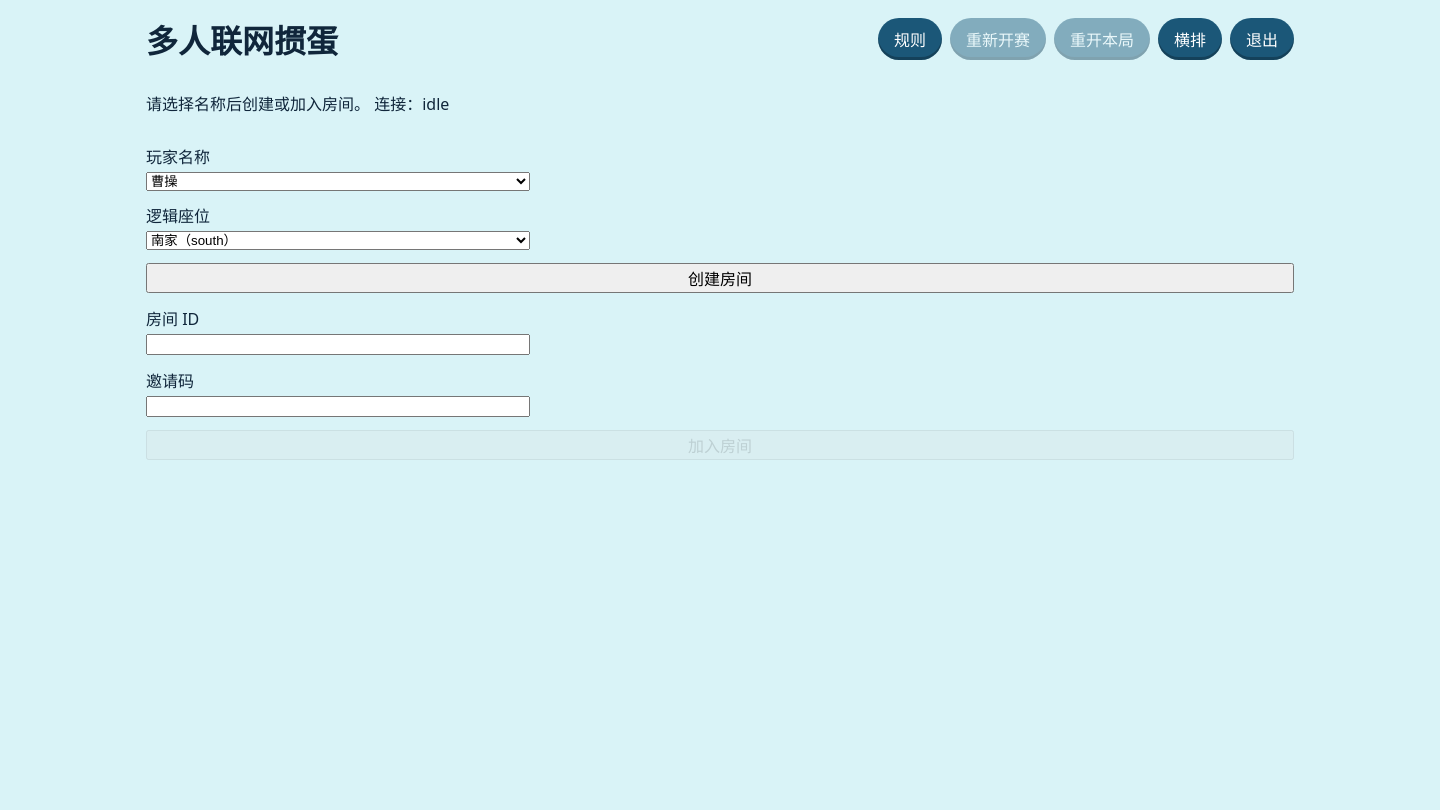
Test: 多人前端 › 跟牌的合法响应也会在权威确认后立即移除手牌并轮转
Click the button "创建房间" at point(720, 278), box [146,263,1294,293]
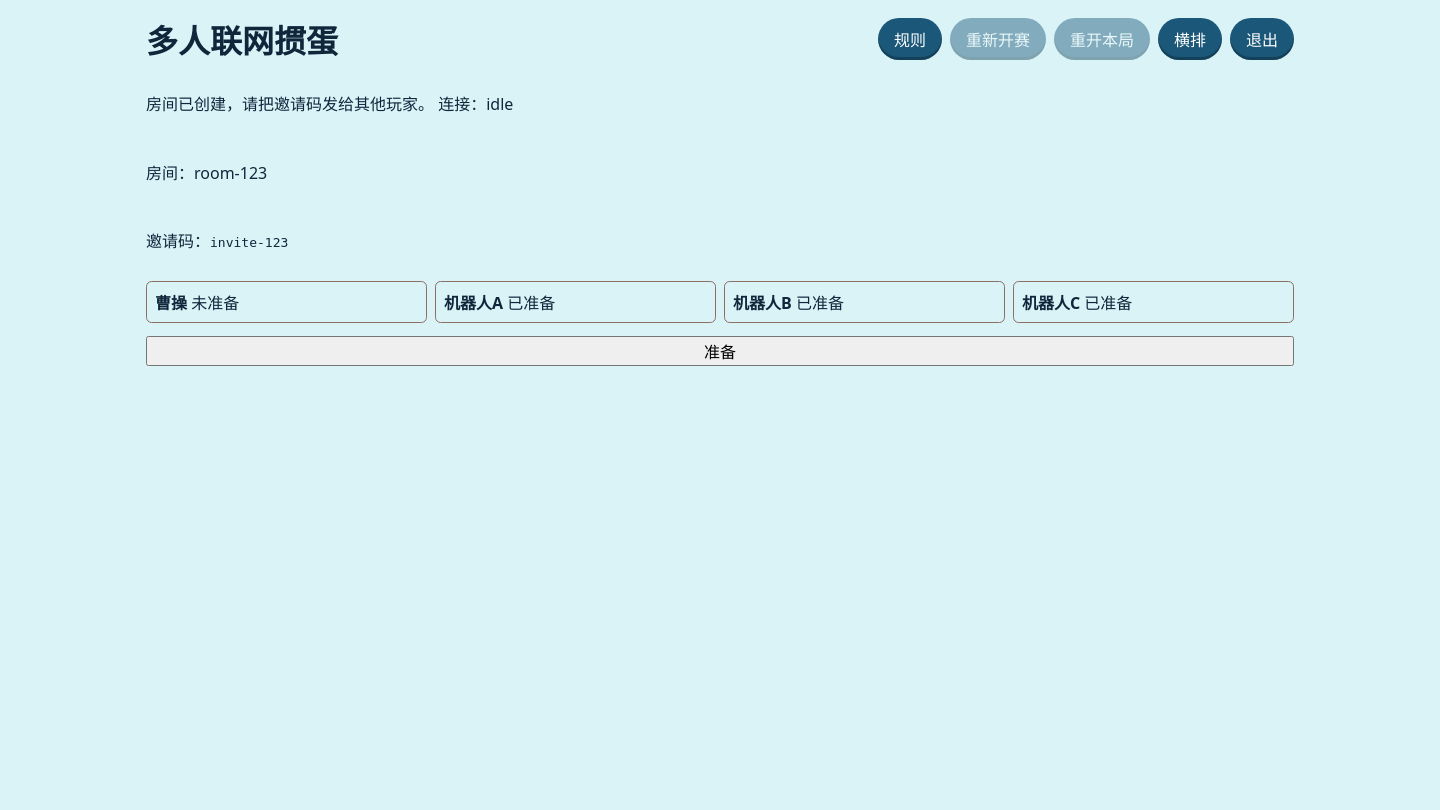
Check: the element named "多人房间" is shown, box [146,144,1294,366]
Click the button "准备" at point(720, 351), box [146,336,1294,366]
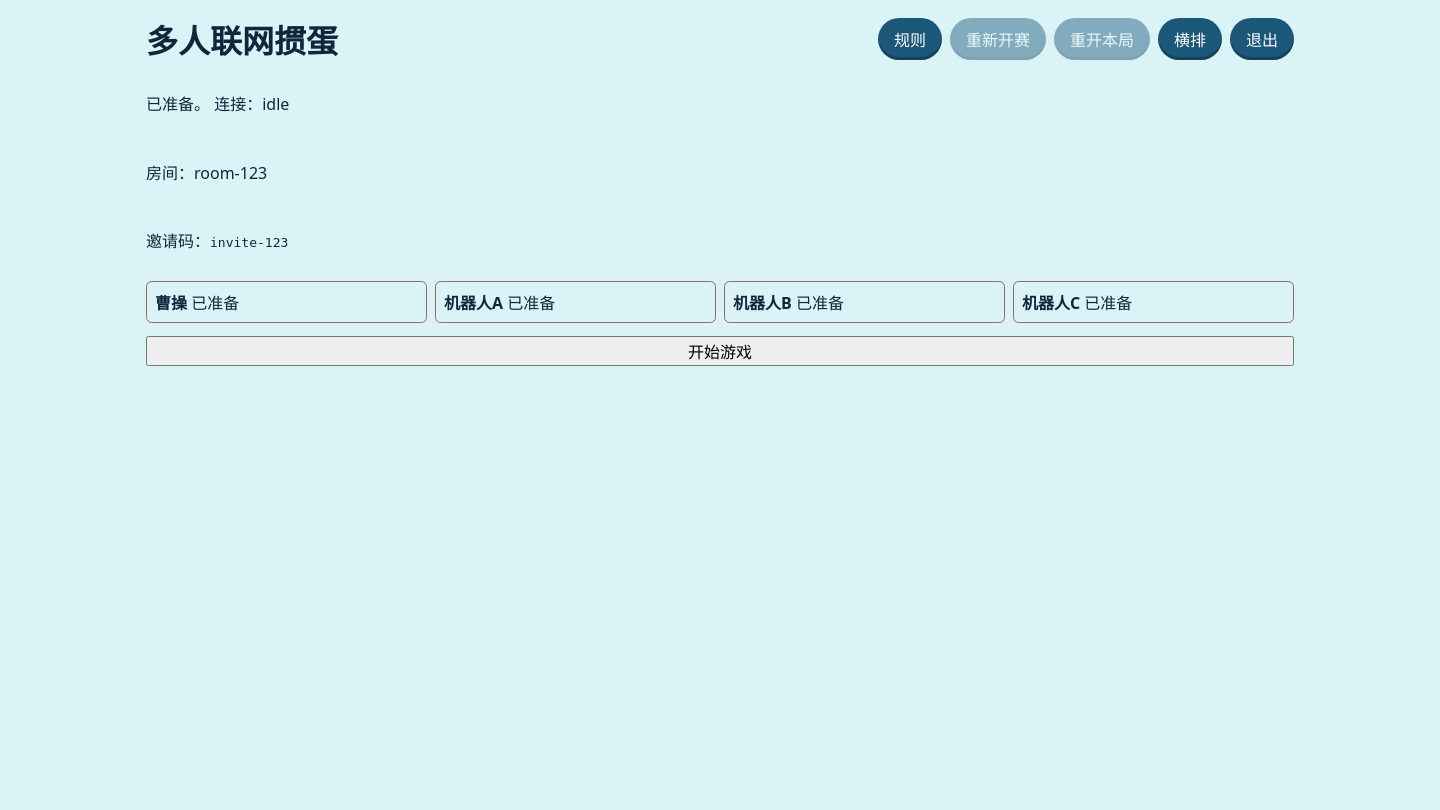
Check: the button "开始游戏" is enabled
Click the button "开始游戏" at point(720, 351), box [146,336,1294,366]
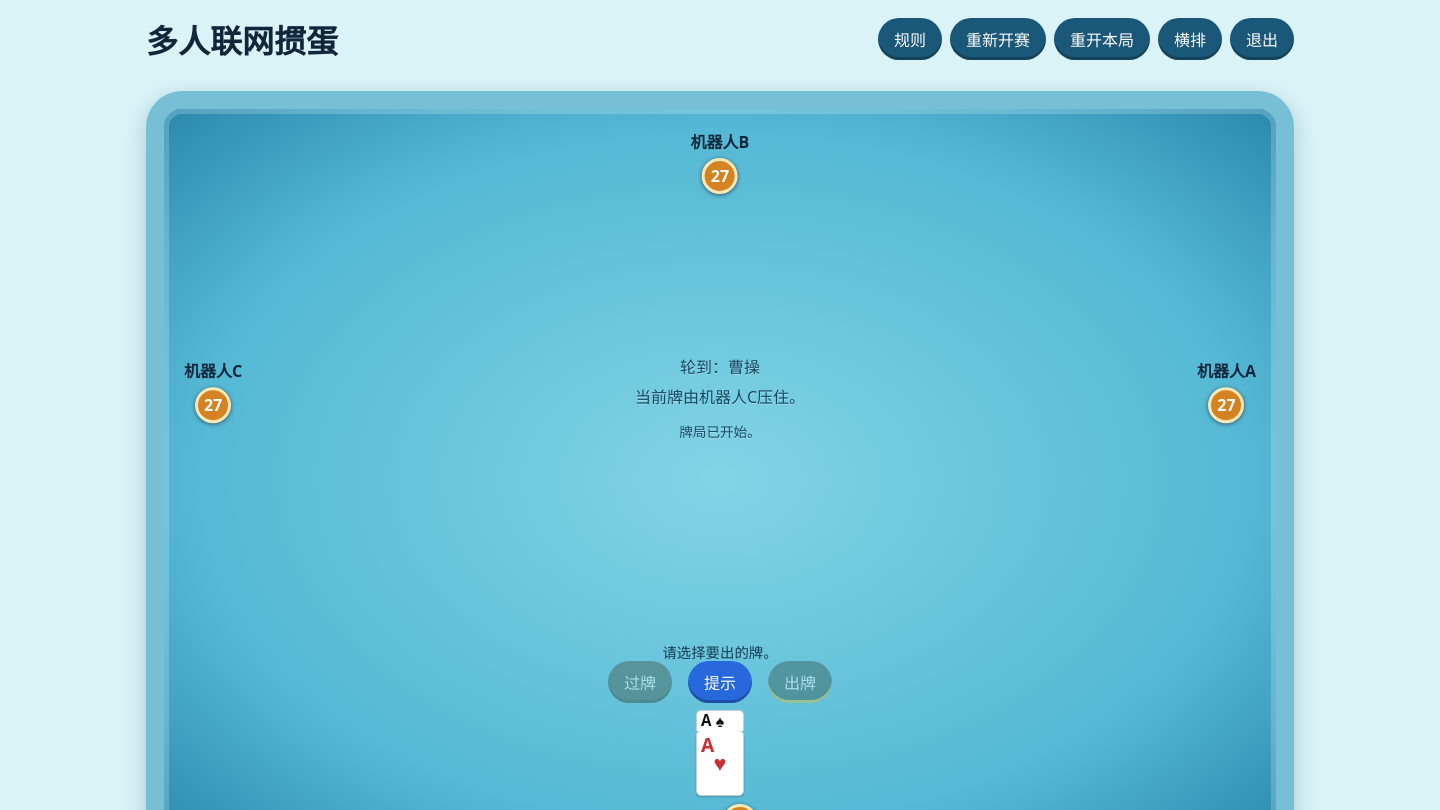
Click the button named "选择♠A" at point(720, 721), box [696,710,744,731]
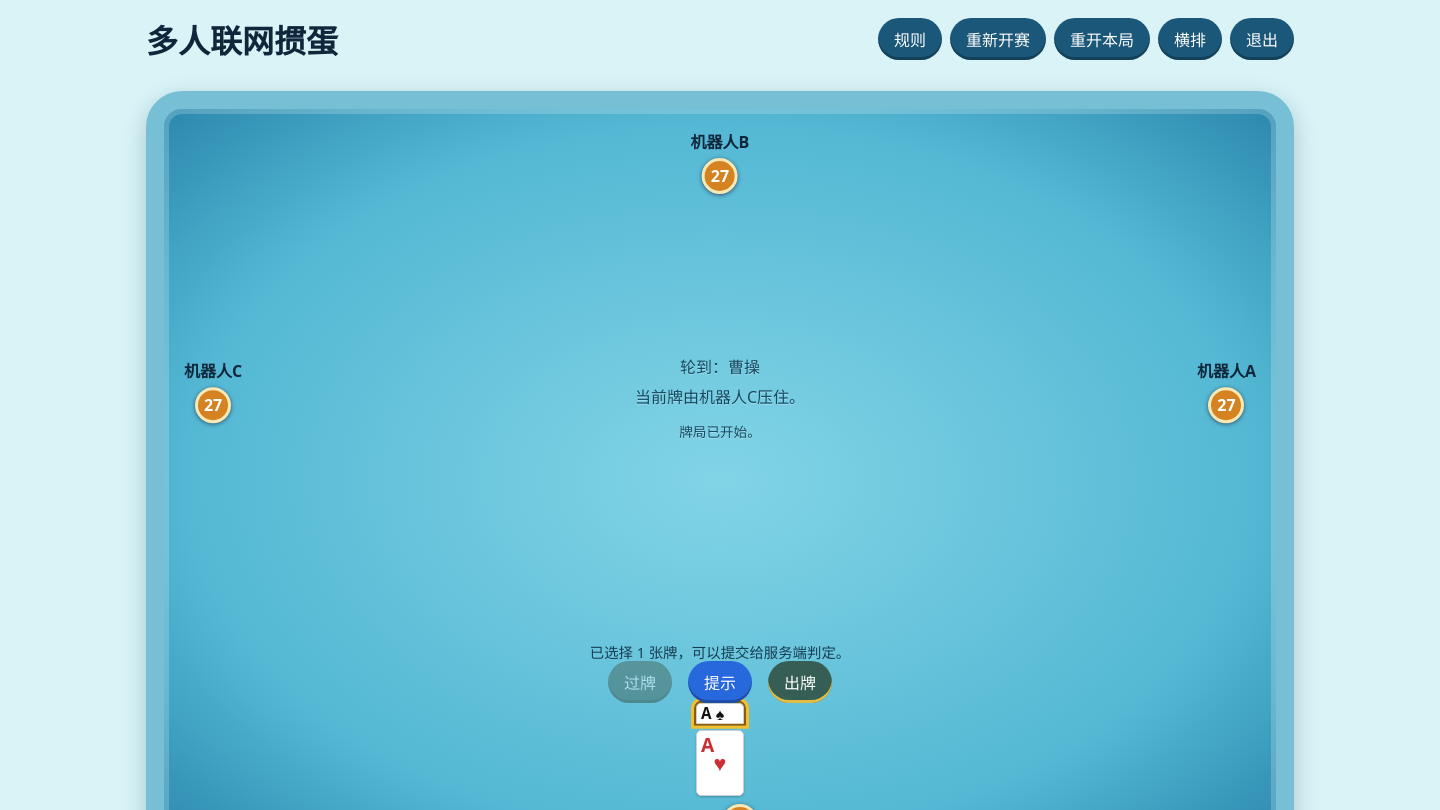
Click the button named "选择♥A" at point(720, 763), box [696,730,744,796]
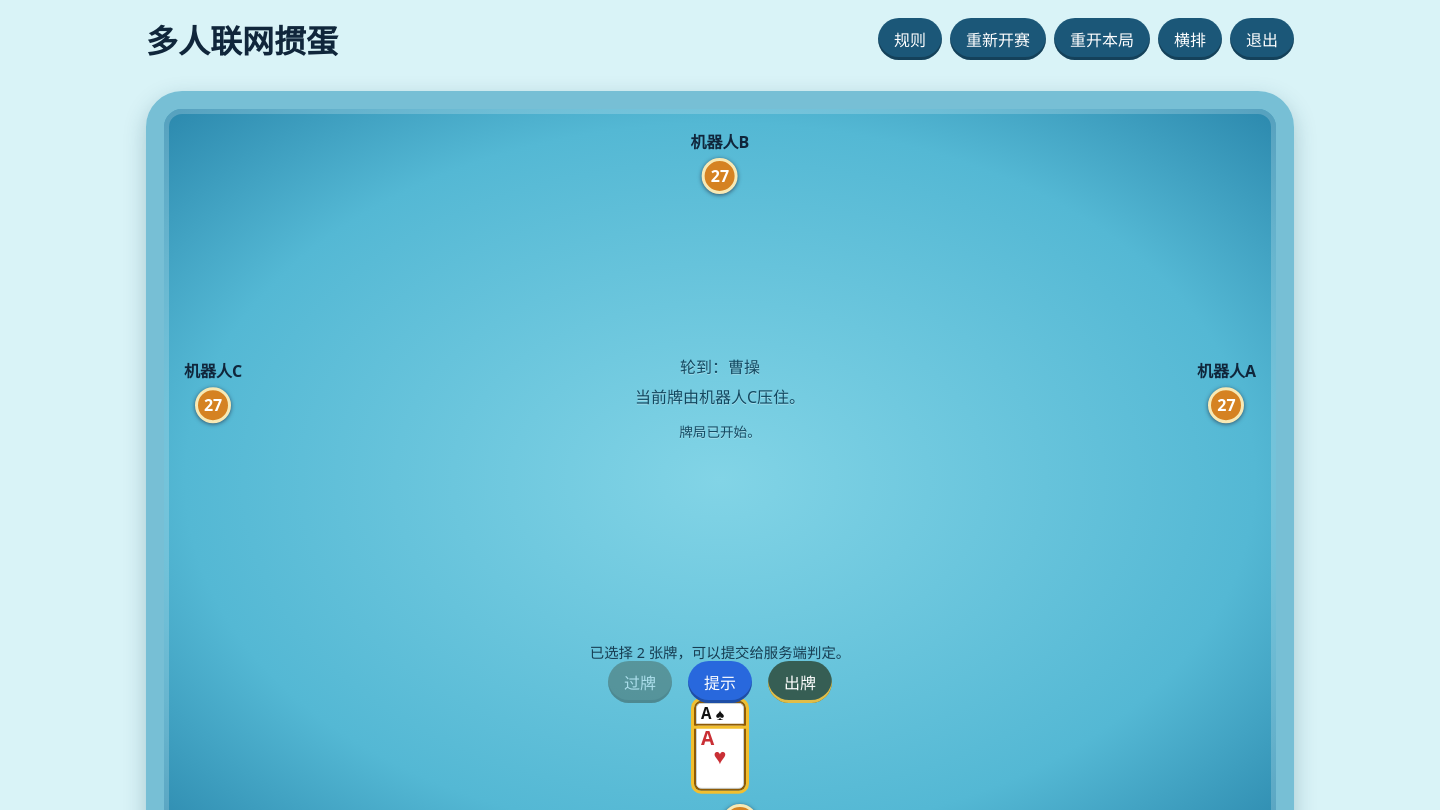
Check: the button "出牌" is enabled
Click the button "出牌" at point(800, 682), box [768,662,832,703]
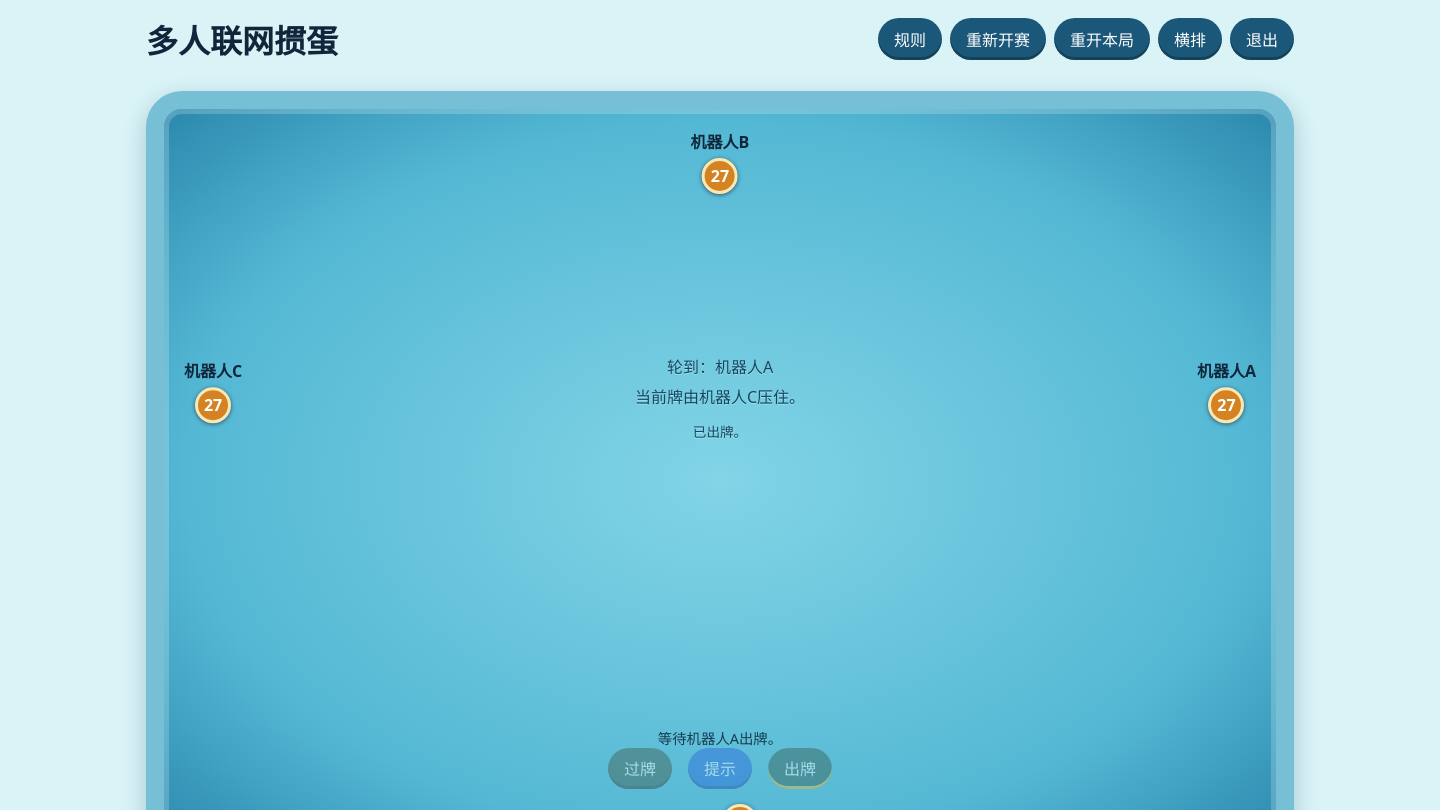
Check: the text "轮到：机器人A" is shown, box [667,357,773,379]
Check: no elements with class "card-face" are shown
